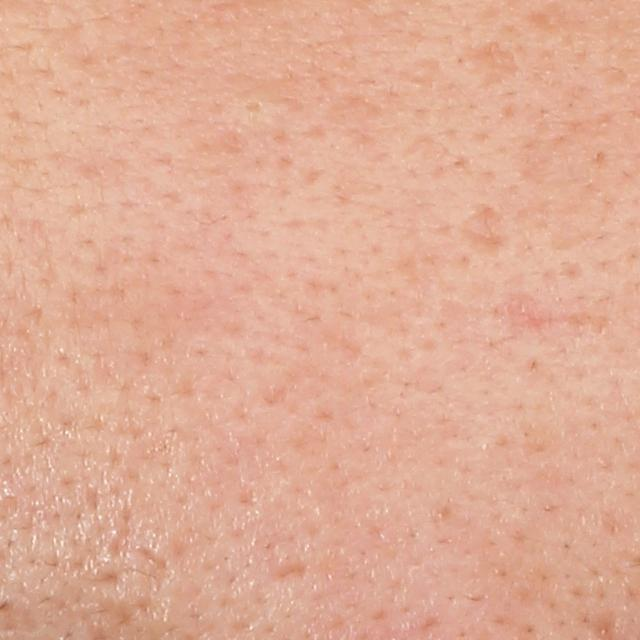atrophic_scar: (448, 199, 514, 255), (464, 40, 518, 93), (270, 562, 311, 582)
comedo: (237, 87, 278, 122)
